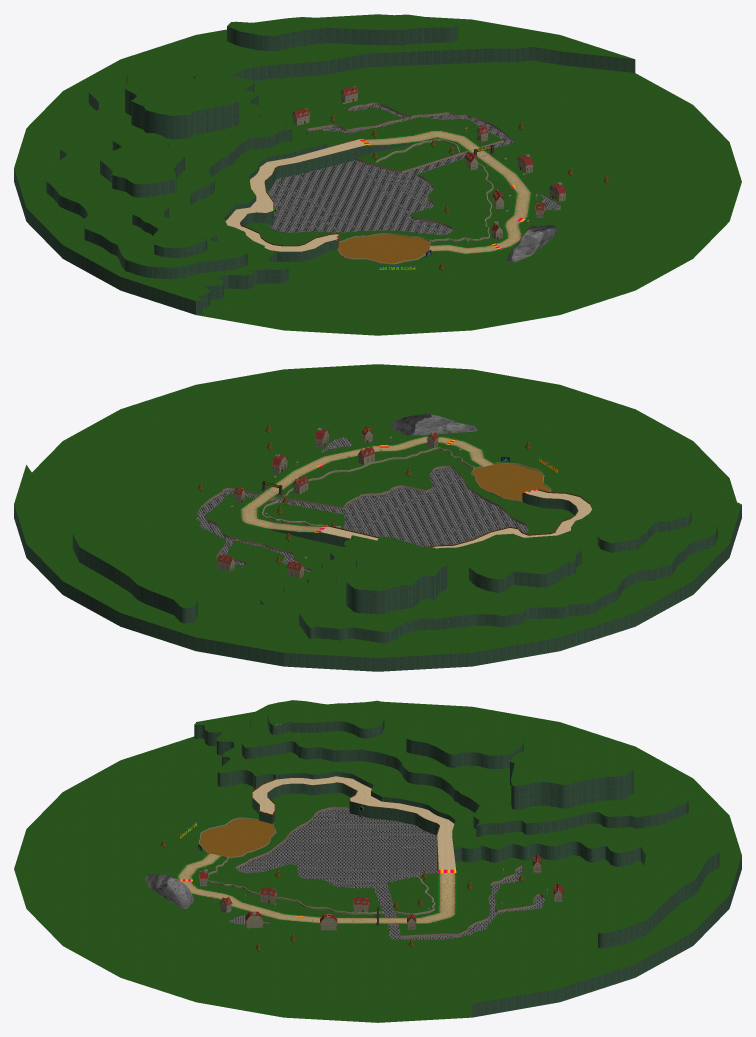
The picture shows the model from 3 angles, top to bottom: view 1: azimuth 30°, elevation 25°; view 2: azimuth 150°, elevation 25°; view 3: azimuth 270°, elevation 25°; orthographic projection.
Parts seen in each view (by area): view 1: Acaia_s_Village_v2_SKP__off_road_x4, Acaia_s_Village_v2_SKP__Material1, Acaia_s_Village_v2_SKP__fall_boundary, Acaia_s_Village_v2_SKP__Material5, Acaia_s_Village_v2_SKP__Material8, Acaia_s_Village_v2_SKP__road_sand, Acaia_s_Village_v2_SKP__rock_water, Acaia_s_Village_v2_COM_skp72_30688_roccia, Acaia_s_Village_v2_SKP__MarioHouse_Wall; view 2: Acaia_s_Village_v2_SKP__off_road_x4, Acaia_s_Village_v2_SKP__Material1, Acaia_s_Village_v2_SKP__fall_boundary, Acaia_s_Village_v2_SKP__Material5, Acaia_s_Village_v2_SKP__road_sand, Acaia_s_Village_v2_SKP__Material8, Acaia_s_Village_v2_COM_skp72_30688_roccia, Acaia_s_Village_v2_SKP__rock_water, Acaia_s_Village_v2_SKP__MarioHouse_Wall, Acaia_s_Village_v2_SKP__walll; view 3: Acaia_s_Village_v2_SKP__off_road_x4, Acaia_s_Village_v2_SKP__Material1, Acaia_s_Village_v2_SKP__fall_boundary, Acaia_s_Village_v2_SKP__Material5, Acaia_s_Village_v2_SKP__Material8, Acaia_s_Village_v2_SKP__road_sand, Acaia_s_Village_v2_COM_skp72_30688_roccia, Acaia_s_Village_v2_SKP__MarioHouse_Wall, Acaia_s_Village_v2_SKP__rock_water.
Part boxes in pixels (bbox=[...]): Acaia_s_Village_v2_SKP__off_road_x4: bbox=[14, 14, 741, 335]; Acaia_s_Village_v2_SKP__Material1: bbox=[14, 26, 635, 314]; Acaia_s_Village_v2_SKP__fall_boundary: bbox=[267, 104, 560, 234]; Acaia_s_Village_v2_SKP__Material5: bbox=[364, 130, 531, 254]; Acaia_s_Village_v2_SKP__Material8: bbox=[225, 139, 365, 251]; Acaia_s_Village_v2_SKP__road_sand: bbox=[338, 234, 430, 263]; Acaia_s_Village_v2_SKP__rock_water: bbox=[307, 102, 515, 229]; Acaia_s_Village_v2_COM_skp72_30688_roccia: bbox=[506, 225, 556, 262]; Acaia_s_Village_v2_SKP__MarioHouse_Wall: bbox=[337, 138, 493, 264]; Acaia_s_Village_v2_SKP__off_road_x4: bbox=[14, 364, 741, 657]; Acaia_s_Village_v2_SKP__Material1: bbox=[14, 437, 741, 671]; Acaia_s_Village_v2_SKP__fall_boundary: bbox=[197, 437, 528, 571]; Acaia_s_Village_v2_SKP__Material5: bbox=[240, 436, 494, 532]; Acaia_s_Village_v2_SKP__road_sand: bbox=[472, 463, 550, 500]; Acaia_s_Village_v2_SKP__Material8: bbox=[320, 490, 592, 548]; Acaia_s_Village_v2_COM_skp72_30688_roccia: bbox=[391, 414, 477, 435]; Acaia_s_Village_v2_SKP__rock_water: bbox=[196, 466, 528, 571]; Acaia_s_Village_v2_SKP__MarioHouse_Wall: bbox=[262, 447, 551, 527]; Acaia_s_Village_v2_SKP__walll: bbox=[328, 489, 592, 547]; Acaia_s_Village_v2_SKP__off_road_x4: bbox=[14, 700, 741, 1022]; Acaia_s_Village_v2_SKP__Material1: bbox=[194, 715, 741, 1017]; Acaia_s_Village_v2_SKP__fall_boundary: bbox=[229, 809, 544, 940]; Acaia_s_Village_v2_SKP__Material5: bbox=[177, 853, 456, 923]; Acaia_s_Village_v2_SKP__Material8: bbox=[252, 776, 455, 869]; Acaia_s_Village_v2_SKP__road_sand: bbox=[199, 819, 275, 857]; Acaia_s_Village_v2_COM_skp72_30688_roccia: bbox=[145, 874, 193, 909]; Acaia_s_Village_v2_SKP__MarioHouse_Wall: bbox=[198, 817, 435, 915]; Acaia_s_Village_v2_SKP__rock_water: bbox=[235, 807, 544, 937].
Size of the model in its own units: 219435 by 17423 by 219435.
33 materials, 32 textured.
